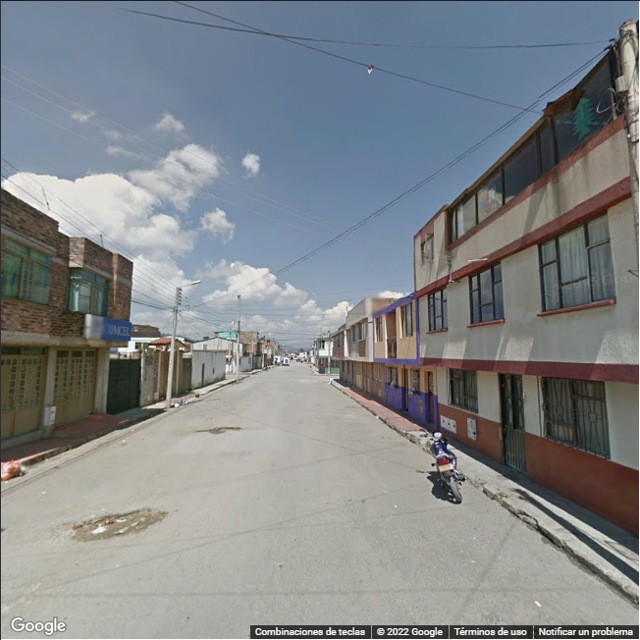D40: (74, 507, 153, 538)
